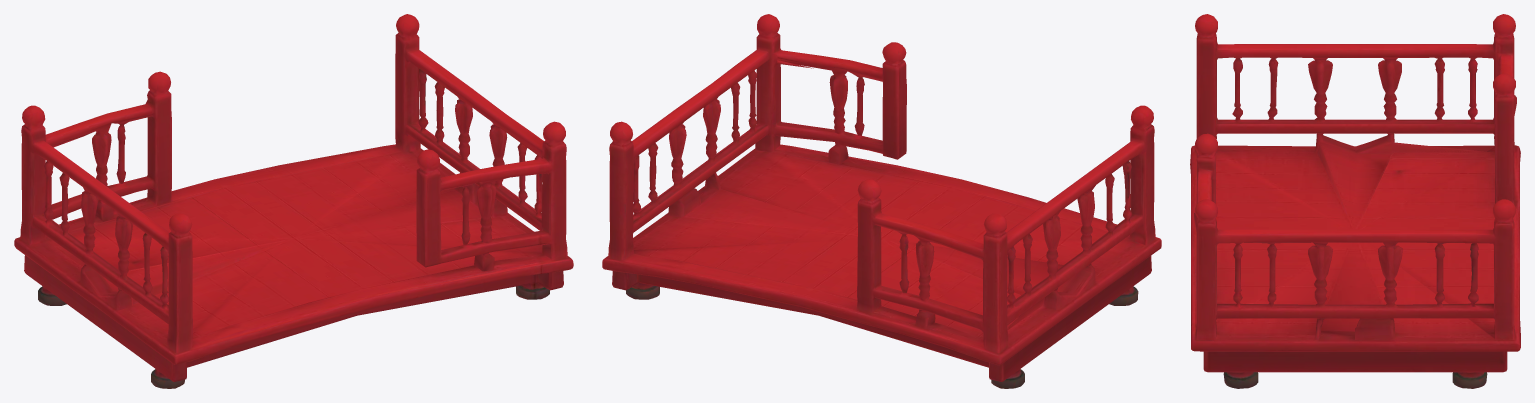
File: arch-bridge.opt.glb
The picture shows the model from 3 angles, left to right: view 1: azimuth 30°, elevation 25°; view 2: azimuth 150°, elevation 25°; view 3: azimuth 270°, elevation 25°; orthographic projection.
Bounding box in the file's own units: 1.91 × 0.8414 × 1.35.
Materials: 1 (1 with a texture image).
